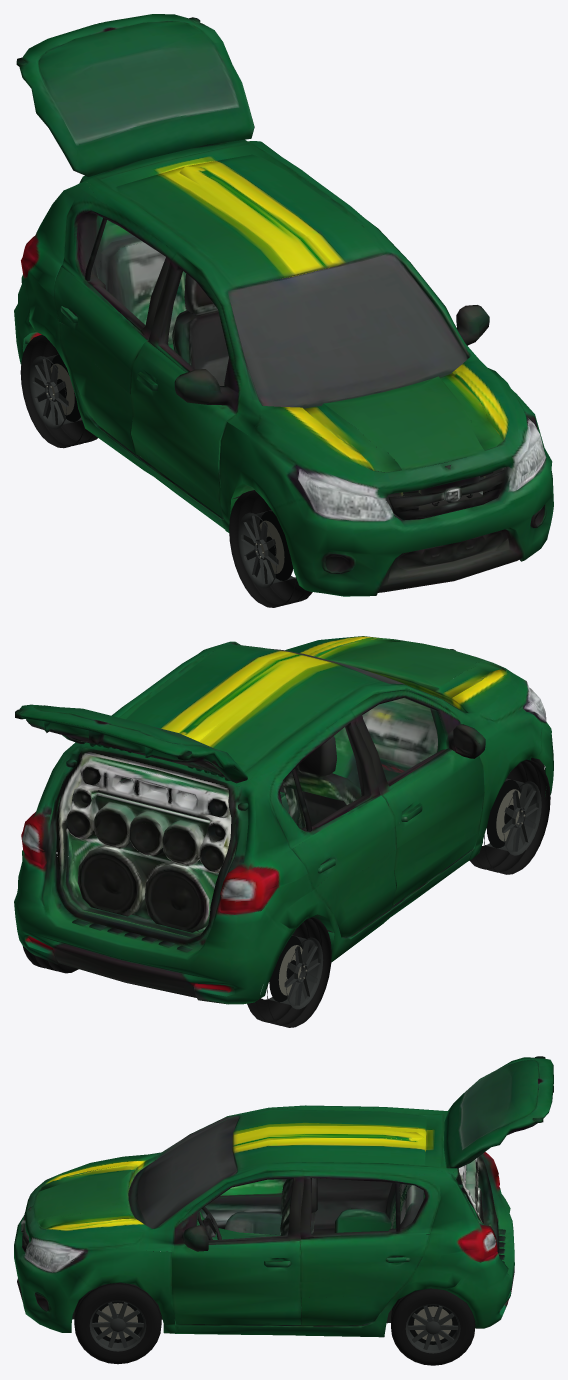
Rendered from som-carro-0.glb.
3 views of the same model, one above another, from view 1: azimuth 30°, elevation 25°; view 2: azimuth 150°, elevation 25°; view 3: azimuth 270°, elevation 25° (orthographic). The views are drawn at different scales.
Visible parts, largest first — view 1: Som_carro, Tyre_Front_L, Tyre_Rear_L; view 2: Som_carro, Tyre_Front_L, Tyre_Rear_L, Tyre_Rear_R; view 3: Som_carro, Tyre_Front_R, Tyre_Rear_R.
Boxes of the visible parts, x1=… form: Som_carro: x1=14, y1=14, x2=553, y2=596; Tyre_Front_L: x1=229, y1=490, x2=312, y2=607; Tyre_Rear_L: x1=20, y1=335, x2=97, y2=448; Som_carro: x1=14, y1=636, x2=553, y2=1004; Tyre_Front_L: x1=470, y1=759, x2=550, y2=874; Tyre_Rear_L: x1=247, y1=917, x2=331, y2=1027; Tyre_Rear_R: x1=23, y1=857, x2=78, y2=973; Som_carro: x1=14, y1=1056, x2=553, y2=1337; Tyre_Front_R: x1=74, y1=1282, x2=161, y2=1364; Tyre_Rear_R: x1=391, y1=1288, x2=475, y2=1365.
Bounding box in the file's own units: 1.92 × 1.97 × 4.
1 material, 1 textured.
